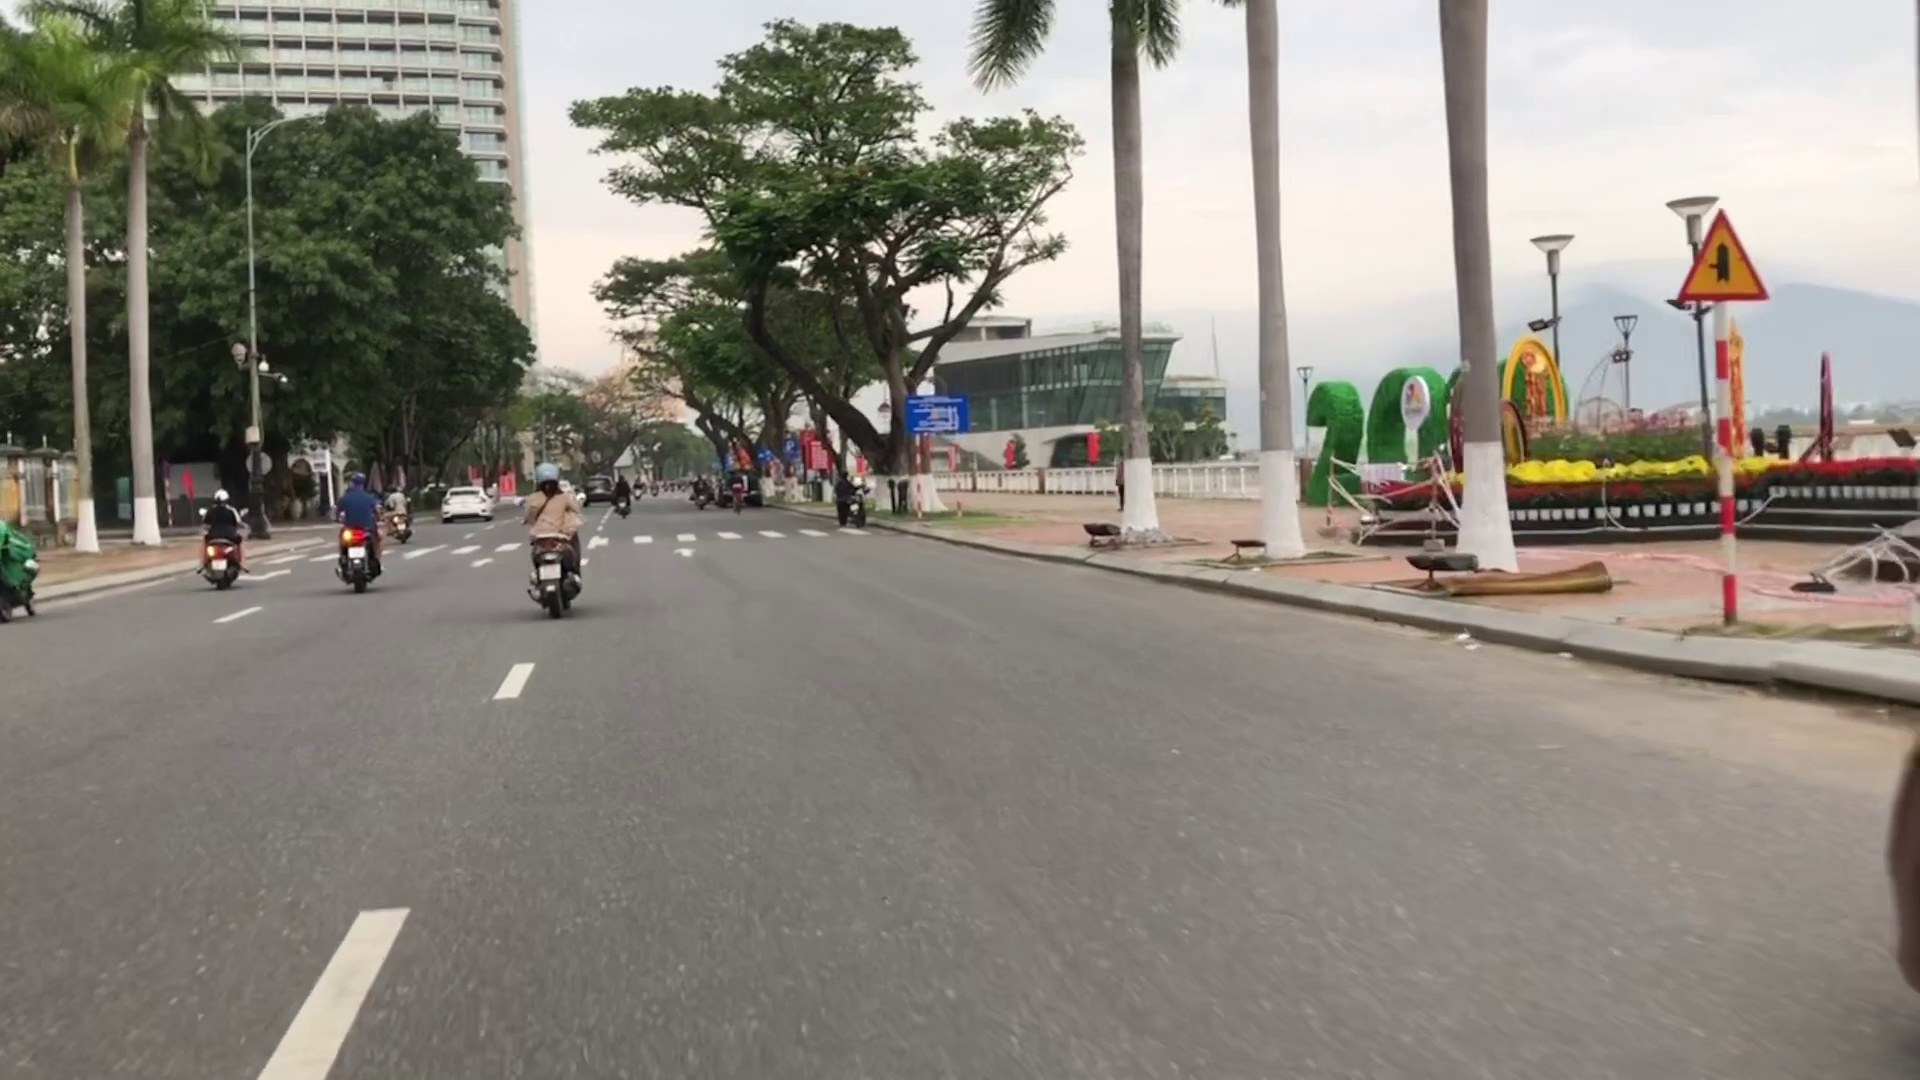Bien khac: (781, 434, 796, 460)
Giao nhau voi duong khong uu tien: (1675, 204, 1771, 309)
